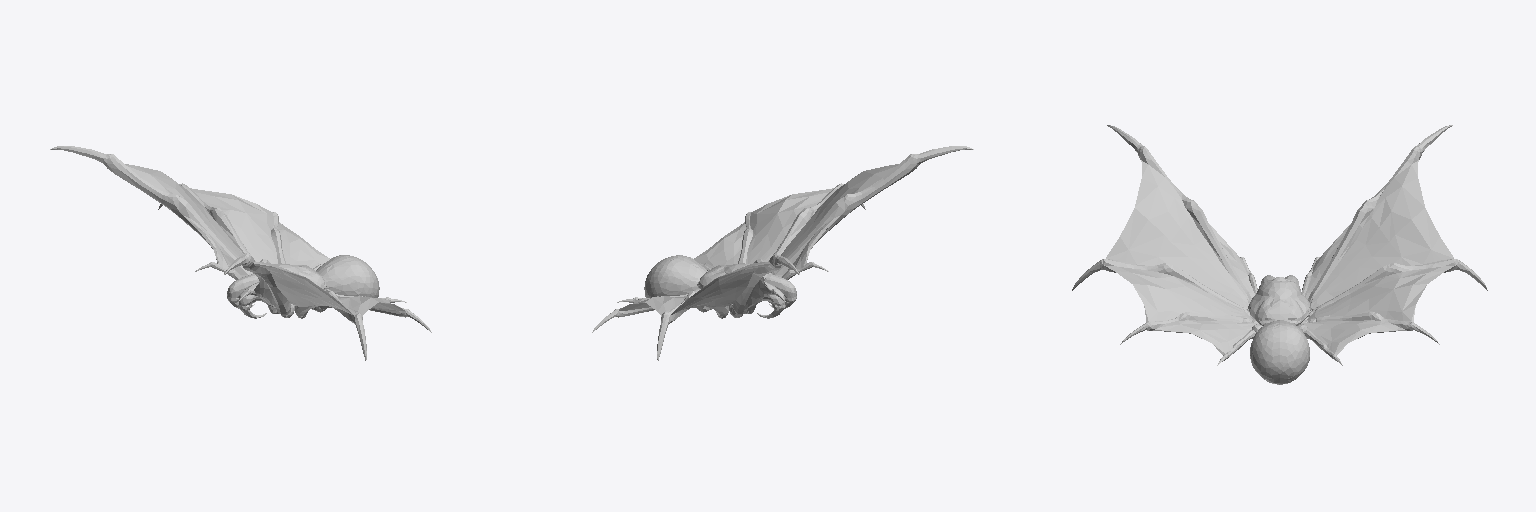
File: flymonster.obj
3 renders of one model, left to right at view 1: azimuth 30°, elevation 25°; view 2: azimuth 150°, elevation 25°; view 3: azimuth 270°, elevation 25°, orthographic.
Visible parts, largest first — view 1: the_flymonster; view 2: the_flymonster; view 3: the_flymonster.
Part boxes in pixels (x1,y1,x2,y2): the_flymonster: (50, 146, 431, 360); the_flymonster: (592, 146, 973, 360); the_flymonster: (1072, 125, 1487, 384).
Bounding box in the file's own units: 1.66 × 1.01 × 2.5.